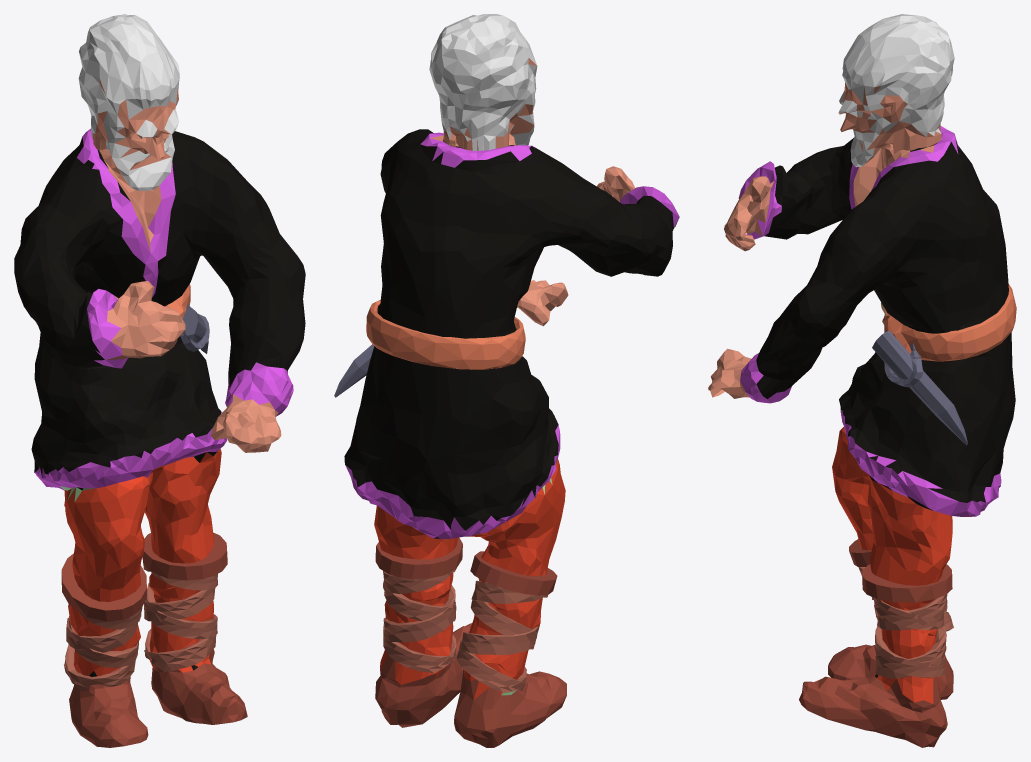
File: MasterSmith_Ole.fbx
3 renders of one model, left to right at view 1: azimuth 30°, elevation 25°; view 2: azimuth 150°, elevation 25°; view 3: azimuth 270°, elevation 25°, orthographic. The views are drawn at different scales.
Visible parts, largest first — view 1: Ole; view 2: Ole; view 3: Ole.
Boxes of the visible parts, box(x1,y1,x2,y2) form: Ole: box(14, 14, 305, 747); Ole: box(334, 14, 679, 747); Ole: box(708, 14, 1016, 747).
Bounding box in the file's own units: 984 × 2530 × 1021.
